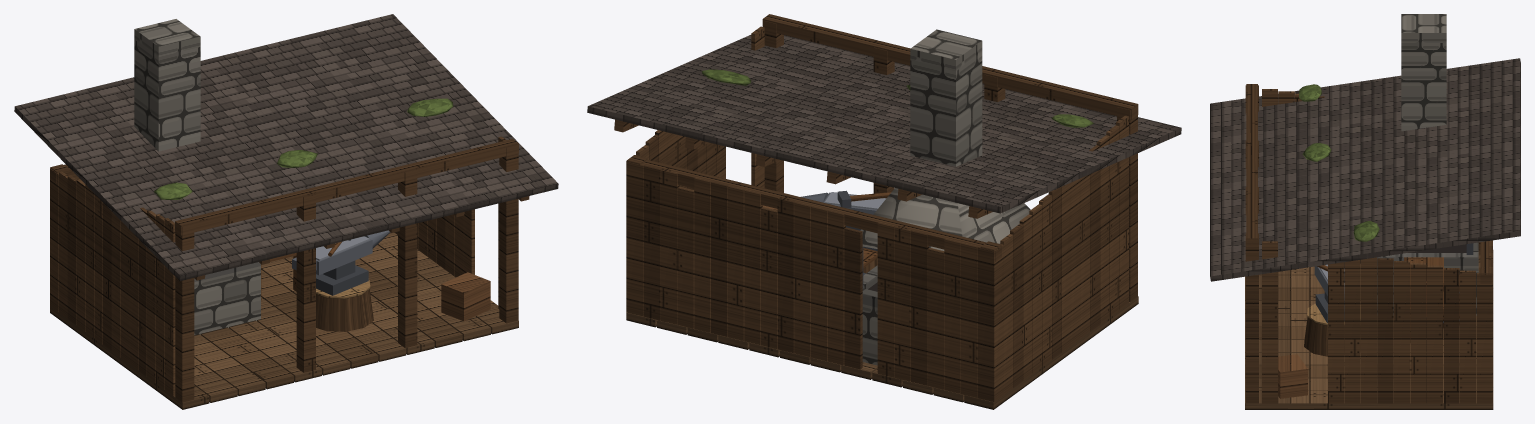
Rendered from tebbes_schuppen.glb.
The picture shows the model from 3 angles, left to right: view 1: azimuth 30°, elevation 25°; view 2: azimuth 150°, elevation 25°; view 3: azimuth 270°, elevation 25°; orthographic projection. The views are drawn at different scales.
Visible parts, largest first — view 1: modell; view 2: modell; view 3: modell.
Boxes of the visible parts, box(x1,y1,x2,y2) form: modell: box(14, 14, 558, 409); modell: box(587, 14, 1181, 409); modell: box(1210, 14, 1520, 409).
Size of the model in its own units: 5.6 by 4.16 by 4.26.
Materials: 9 (6 with a texture image).
